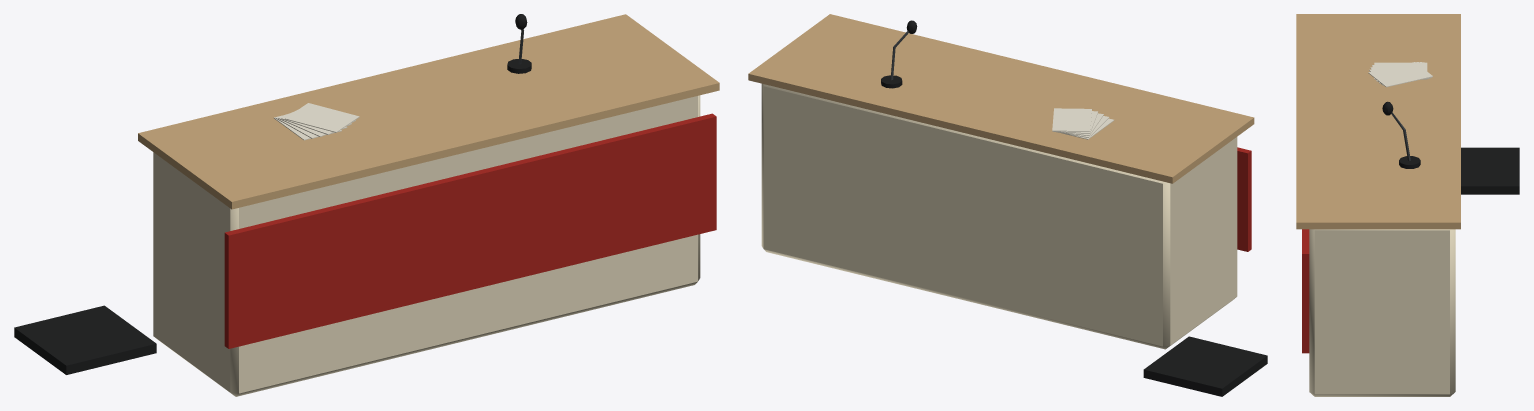
Rendered from info_desk.glb.
The picture shows the model from 3 angles, left to right: view 1: azimuth 30°, elevation 25°; view 2: azimuth 150°, elevation 25°; view 3: azimuth 270°, elevation 25°; orthographic projection. The views are drawn at different scales.
Parts seen in each view (by area): view 1: InfoDesk; view 2: InfoDesk; view 3: InfoDesk.
Part boxes in pixels (x1,y1,x2,y2): InfoDesk: [14, 14, 719, 396]; InfoDesk: [748, 14, 1267, 396]; InfoDesk: [1296, 14, 1519, 396].
Bounding box in the file's own units: 3.2 × 1.44 × 1.22.
